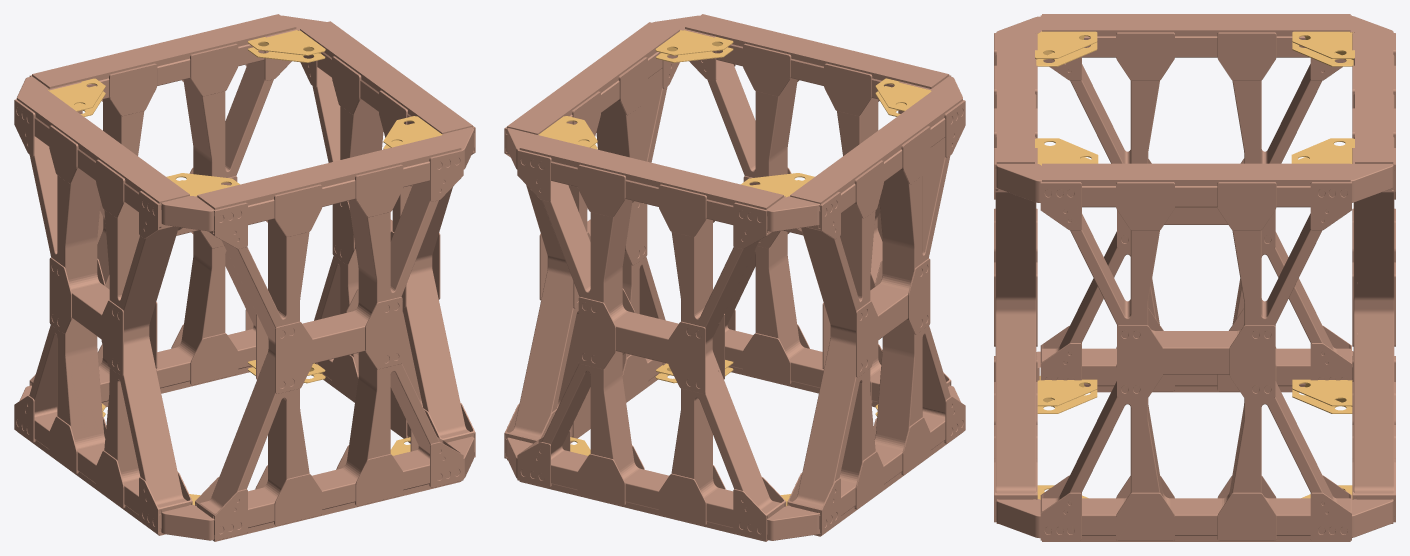
The model's file is FullBlock.glb.
The picture shows the model from 3 angles, left to right: view 1: azimuth 30°, elevation 25°; view 2: azimuth 150°, elevation 25°; view 3: azimuth 270°, elevation 25°; orthographic projection. The views are drawn at different scales.
Visible parts, largest first — view 1: Component#456.114; view 2: Component#456.114; view 3: Component#456.114.
Boxes of the visible parts, x1,y1,x2,y2 form: Component#456.114: (14, 14, 475, 541); Component#456.114: (504, 14, 965, 541); Component#456.114: (994, 14, 1395, 541).
Size of the model in its own units: 6.27 by 6.31 by 6.33.
